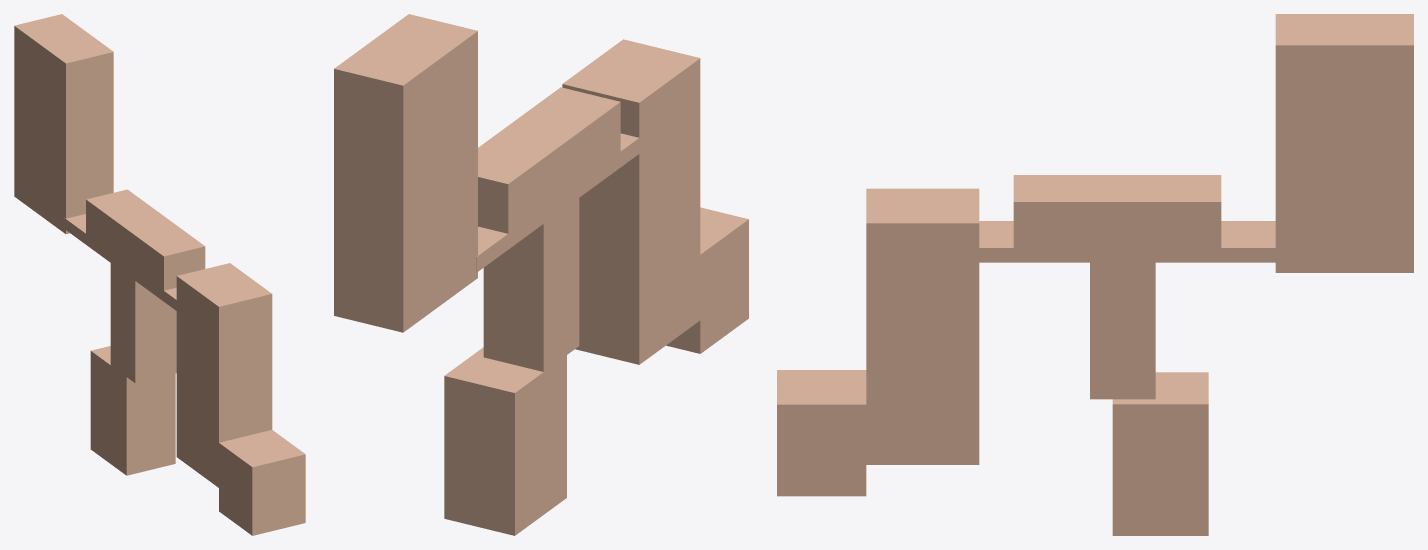
Rendered from 共通教育棟2.glb.
The picture shows the model from 3 angles, left to right: view 1: azimuth 30°, elevation 25°; view 2: azimuth 150°, elevation 25°; view 3: azimuth 270°, elevation 25°; orthographic projection. The views are drawn at different scales.
Visible parts, largest first — view 1: 立方体, 立方体.001, 立方体.002; view 2: 立方体.001, 立方体.002, 立方体; view 3: 立方体.001, 立方体, 立方体.002.
Part boxes in pixels (<box>): 立方体: <box>176,263,305,535</box>; 立方体.001: <box>64,189,205,475</box>; 立方体.002: <box>14,14,113,234</box>; 立方体.001: <box>444,87,639,535</box>; 立方体.002: <box>334,14,477,332</box>; 立方体: <box>562,39,748,364</box>; 立方体.001: <box>979,175,1275,535</box>; 立方体: <box>777,188,979,496</box>; 立方体.002: <box>1275,14,1413,272</box>.
Size of the model in its own units: 12.57 by 82.82 by 97.49.
